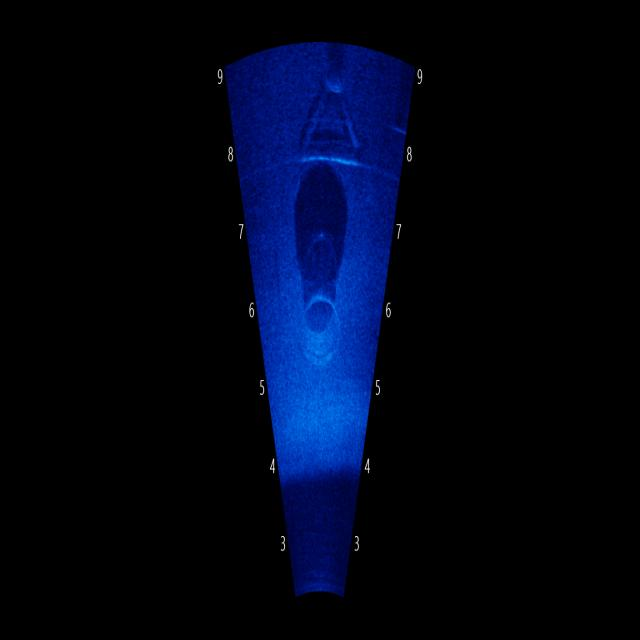circle: (289, 271, 361, 394)
triangle: (292, 60, 374, 188)
